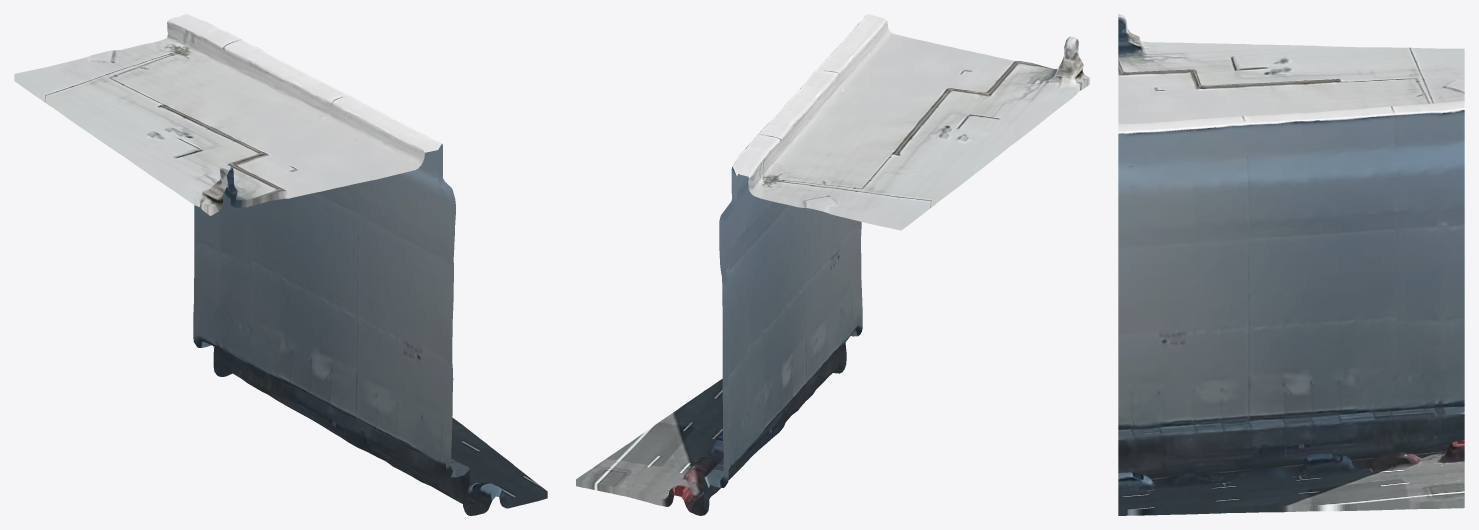
Rendered from z20-167757-405242-h0-yup-uvflip-v3-world.glb.
3 renders of one model, left to right at view 1: azimuth 30°, elevation 25°; view 2: azimuth 150°, elevation 25°; view 3: azimuth 270°, elevation 25°, orthographic. The views are drawn at different scales.
Size of the model in its own units: 30.16 by 35.04 by 30.32.
Materials: 1 (1 with a texture image).
